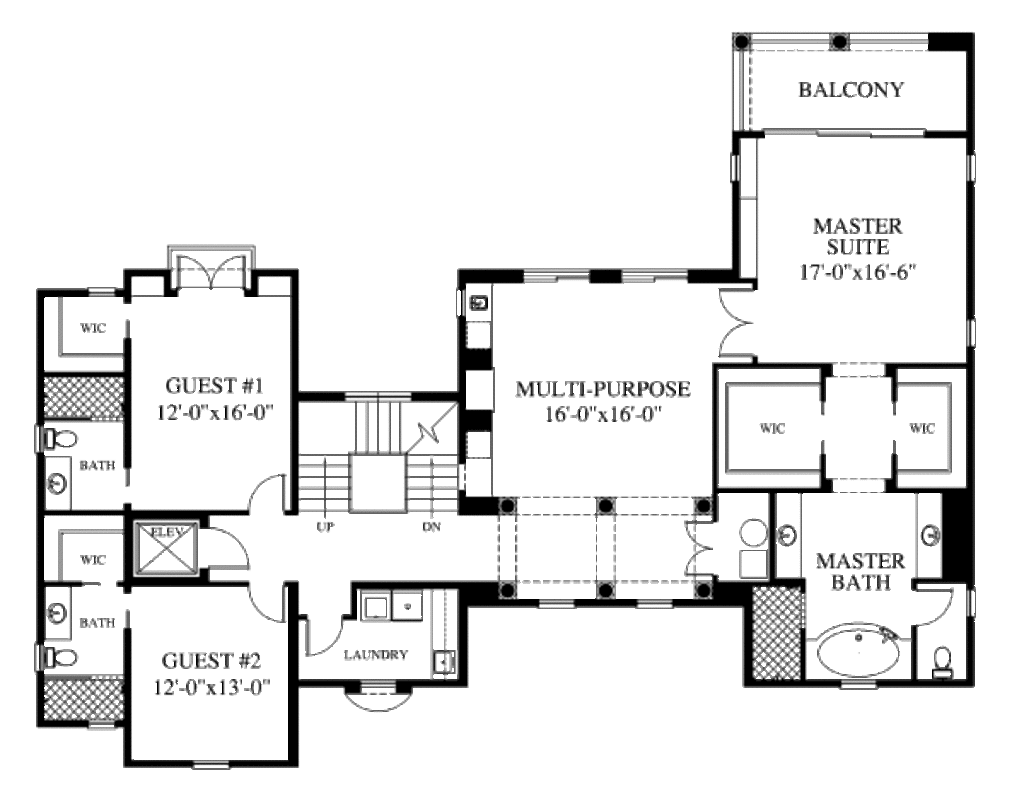door: (714, 282, 757, 361), (172, 255, 251, 297), (203, 526, 254, 573), (241, 473, 292, 514), (684, 516, 716, 579), (247, 578, 288, 623), (300, 615, 342, 655)
large_sink: (928, 643, 962, 681), (46, 642, 81, 672), (42, 426, 80, 452)
small_sink: (775, 492, 802, 581), (916, 493, 942, 577), (44, 583, 75, 641), (46, 457, 77, 514)
stairs: (298, 398, 457, 531)
tub: (806, 619, 913, 677)
windows: (520, 266, 592, 289), (621, 266, 689, 284), (358, 674, 399, 696), (185, 756, 231, 774), (636, 594, 678, 613), (727, 150, 745, 187), (536, 598, 577, 610)
